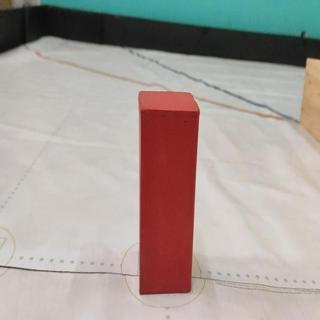redbox: (139, 90, 200, 295)
